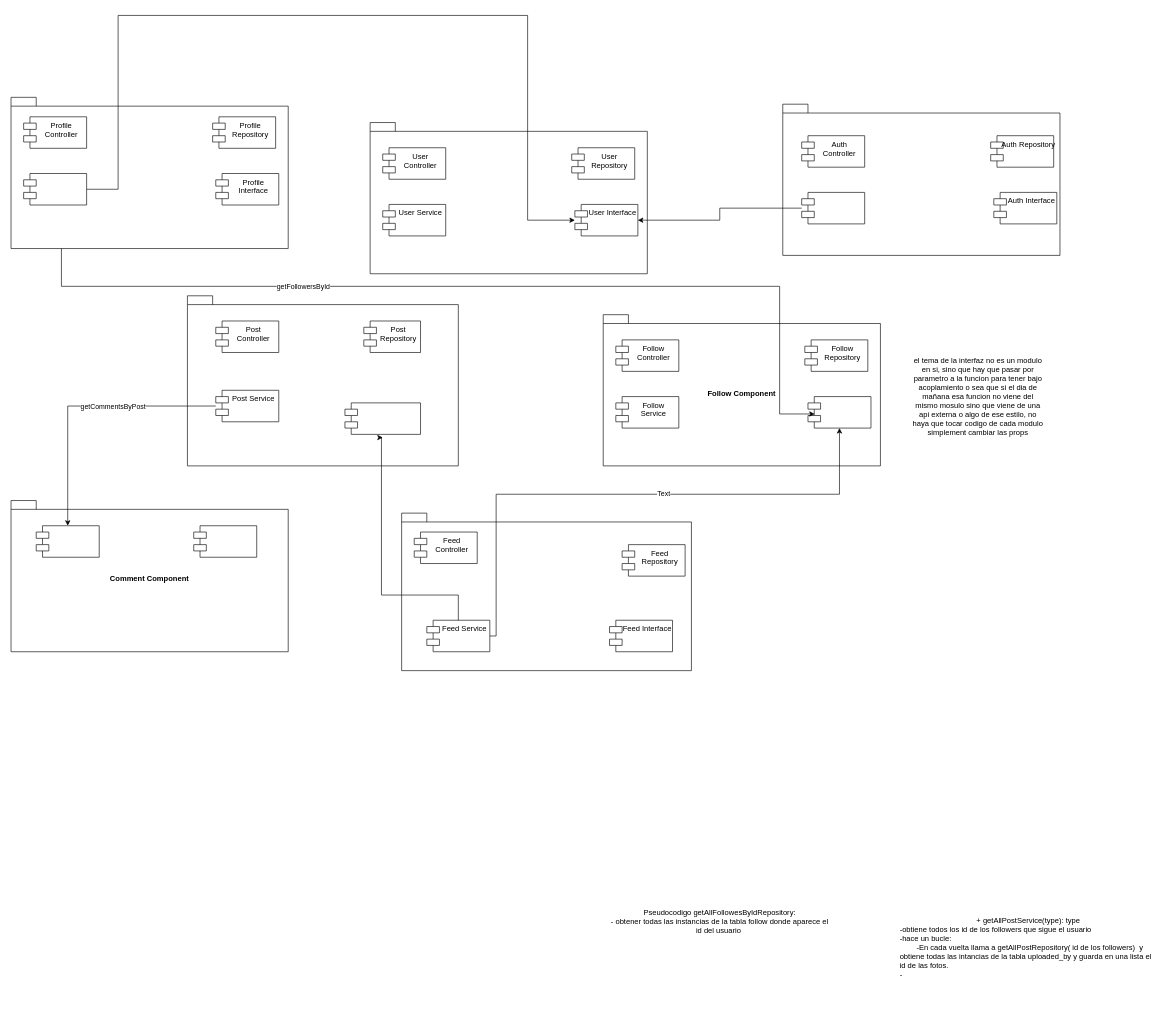
The diagram is 1169 pixels wide and 1022 high, and some of its shapes have lost their labels. Here are the shapes that lost their labels. From the top down, the box of each, then its label:
(23, 173, 87, 205): Profile Service
(10, 97, 288, 249): Profile Component
(782, 104, 1060, 255): Auth Component
(369, 122, 647, 274): User Component
(801, 192, 865, 224): Auth Service
(187, 295, 458, 466): Post Component
(344, 402, 421, 434): Post Interface
(807, 396, 871, 428): Follow Interface
(36, 525, 99, 557): Comment Interface
(193, 525, 257, 557): Comment Service
(401, 513, 691, 671): Feed Component
